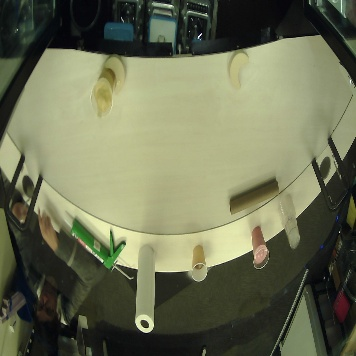coffee_cup: (191, 243, 208, 282)
empty_cup: (278, 192, 302, 248)
full_cup: (89, 70, 114, 118), (251, 226, 272, 270)
puck: (103, 53, 127, 93), (227, 51, 251, 89)
